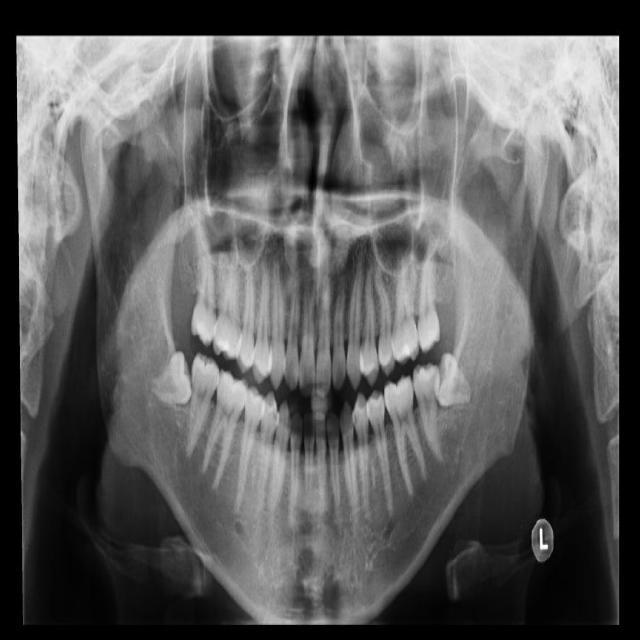73: (576, 531, 580, 554)
BioHorizons Implant: (418, 234, 440, 354)
Biomet 3i Implant: (431, 350, 473, 407)
Blue Sky Bio Implant: (412, 361, 443, 461)
Caries: (191, 223, 216, 346)
Implant: (186, 352, 221, 460)
Keystone Dental Implant: (145, 349, 209, 415)
